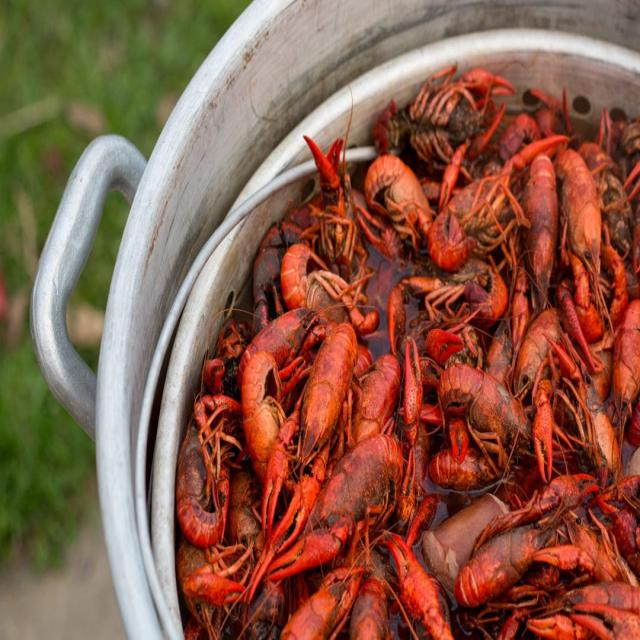Crawfish: (175, 66, 640, 640)
